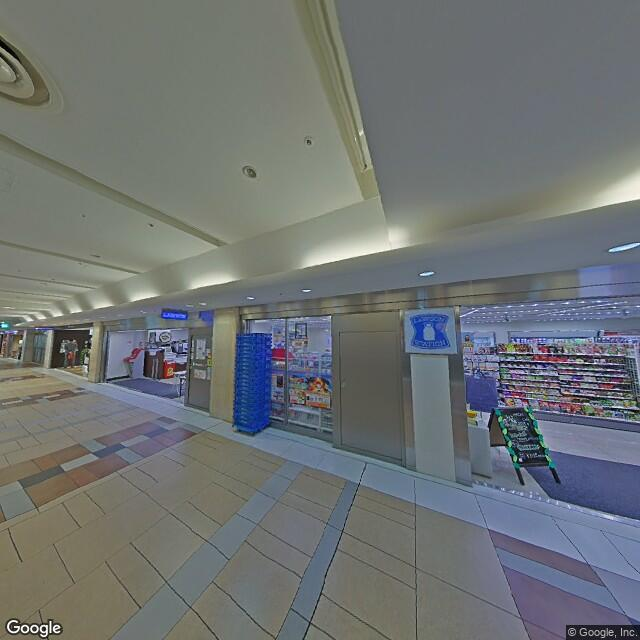lawson: (403, 307, 456, 355)
